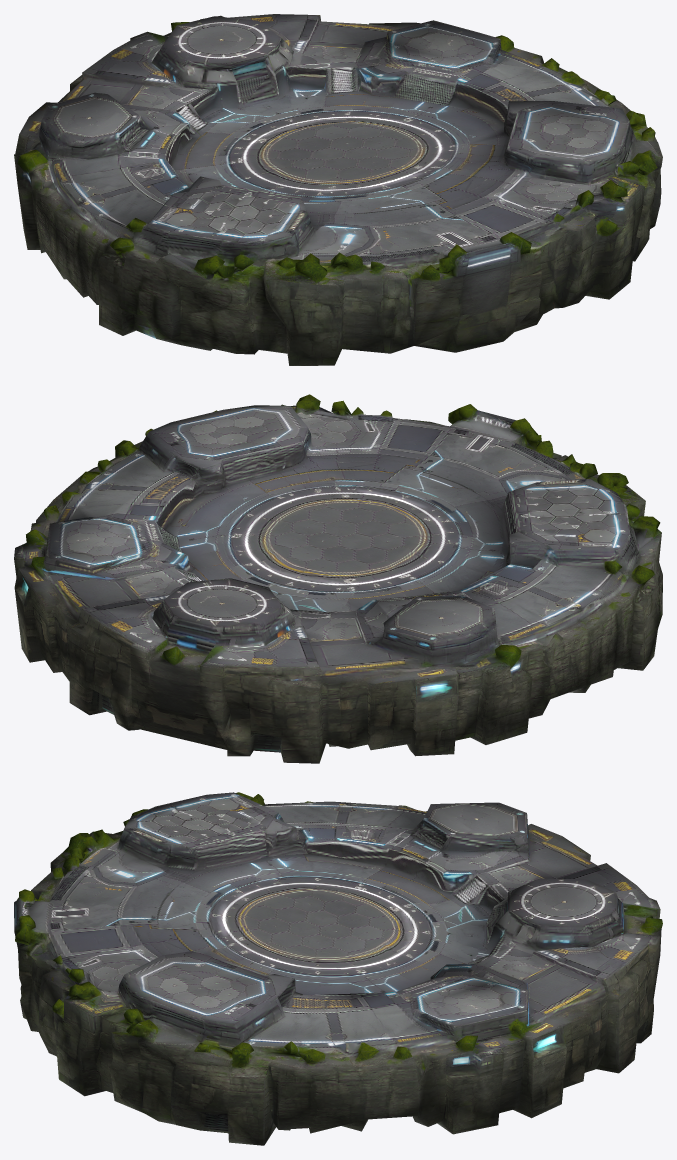
The model's file is Inventor World.glb.
3 views of the same model, one above another, from view 1: azimuth 30°, elevation 25°; view 2: azimuth 150°, elevation 25°; view 3: azimuth 270°, elevation 25° (orthographic).
Visible parts, largest first — view 1: Mesh_0; view 2: Mesh_0; view 3: Mesh_0.
Boxes of the visible parts, x1,y1,x2,y2 form: Mesh_0: [14, 14, 662, 365]; Mesh_0: [14, 394, 662, 763]; Mesh_0: [14, 792, 662, 1145].
Bounding box in the file's own units: 1.85 × 0.3682 × 1.9.
Materials: 1 (1 with a texture image).
